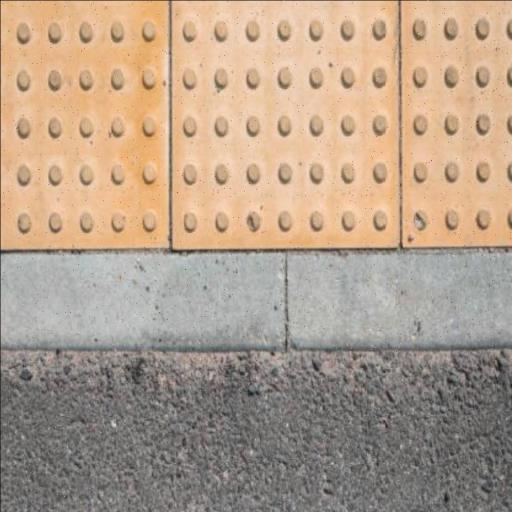dot: (169, 0, 402, 251), (0, 0, 169, 251), (401, 0, 511, 248)
